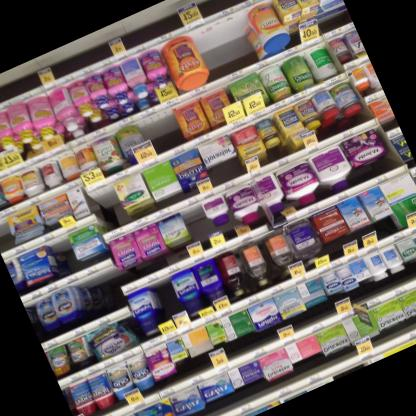empty_space: (193, 21, 242, 80), (219, 9, 265, 69), (148, 276, 187, 332), (139, 108, 184, 156), (180, 202, 220, 253), (87, 185, 128, 233), (70, 275, 109, 322), (90, 266, 127, 313), (0, 217, 18, 253), (332, 363, 364, 379)
